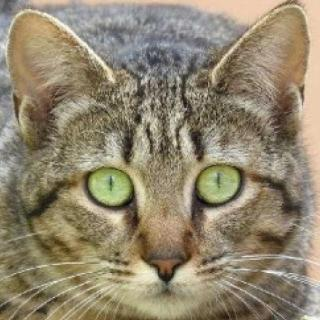cat: (8, 5, 309, 318)
nose: (142, 236, 184, 288)
